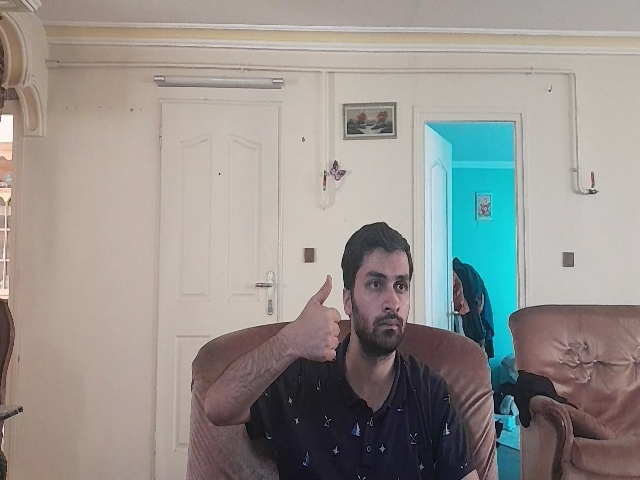ThumbsUp: (291, 274, 342, 364)
